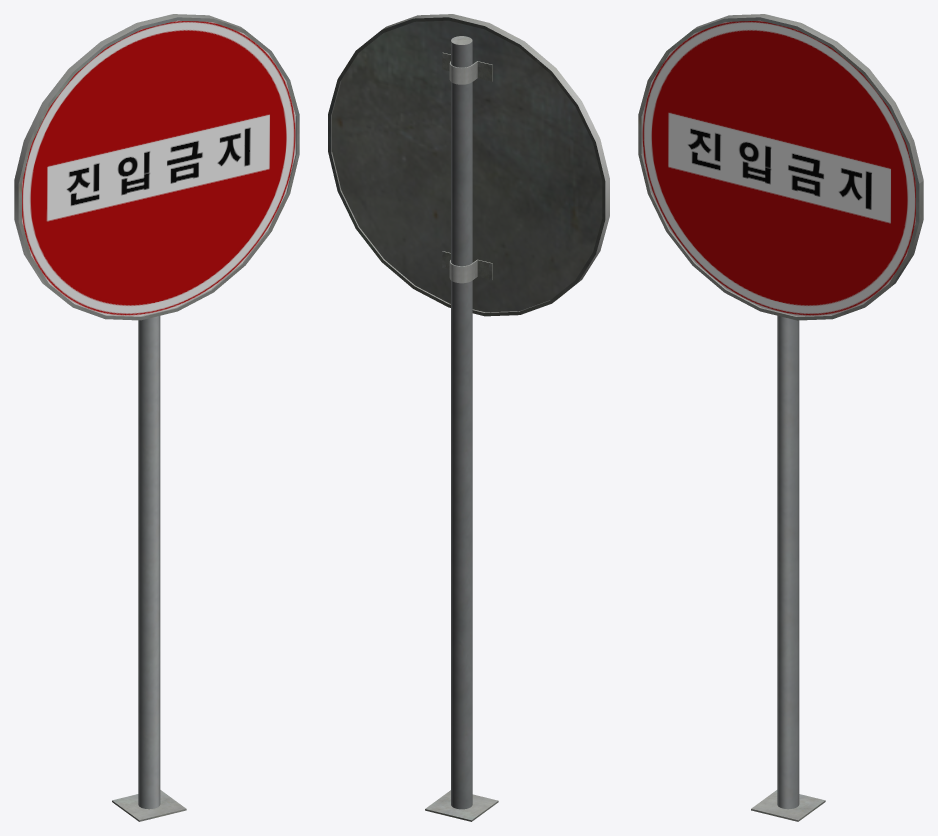
The picture shows the model from 3 angles, left to right: view 1: azimuth 30°, elevation 25°; view 2: azimuth 150°, elevation 25°; view 3: azimuth 330°, elevation 25°; orthographic projection.
Visible parts, largest first — view 1: MainBuilding; view 2: MainBuilding; view 3: MainBuilding.
Part boxes in pixels (x1,y1,x2,y2): MainBuilding: [14, 14, 299, 821]; MainBuilding: [328, 14, 609, 821]; MainBuilding: [638, 14, 923, 821].
Size of the model in its own units: 0.8923 by 2.4 by 0.15.
1 material, 1 textured.
